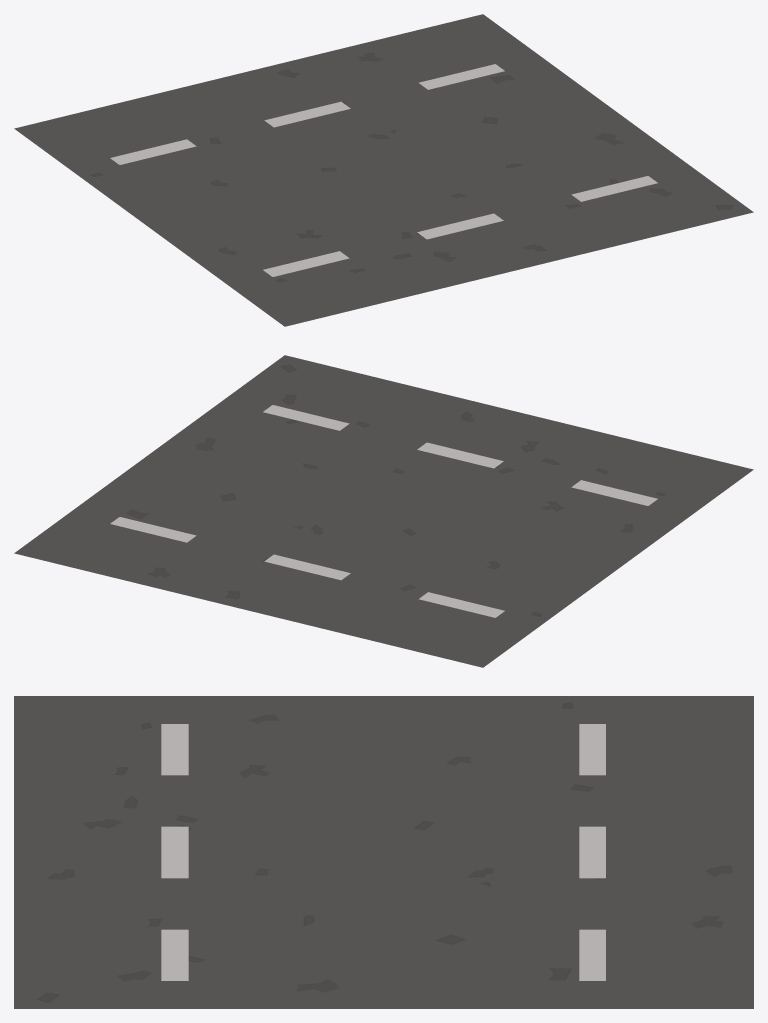
Rendered from SM_Env_Ground_Lines_03.fbx.
The picture shows the model from 3 angles, top to bottom: view 1: azimuth 30°, elevation 25°; view 2: azimuth 150°, elevation 25°; view 3: azimuth 270°, elevation 25°; orthographic projection. The views are drawn at different scales.
Visible parts, largest first — view 1: SM_Env_Ground_Lines_03; view 2: SM_Env_Ground_Lines_03; view 3: SM_Env_Ground_Lines_03.
Part boxes in pixels (x1=…): SM_Env_Ground_Lines_03: x1=14, y1=14, x2=753, y2=326; SM_Env_Ground_Lines_03: x1=14, y1=355, x2=753, y2=667; SM_Env_Ground_Lines_03: x1=14, y1=696, x2=753, y2=1008.
Size of the model in its own units: 1000 by 1.53e-06 by 1000.
